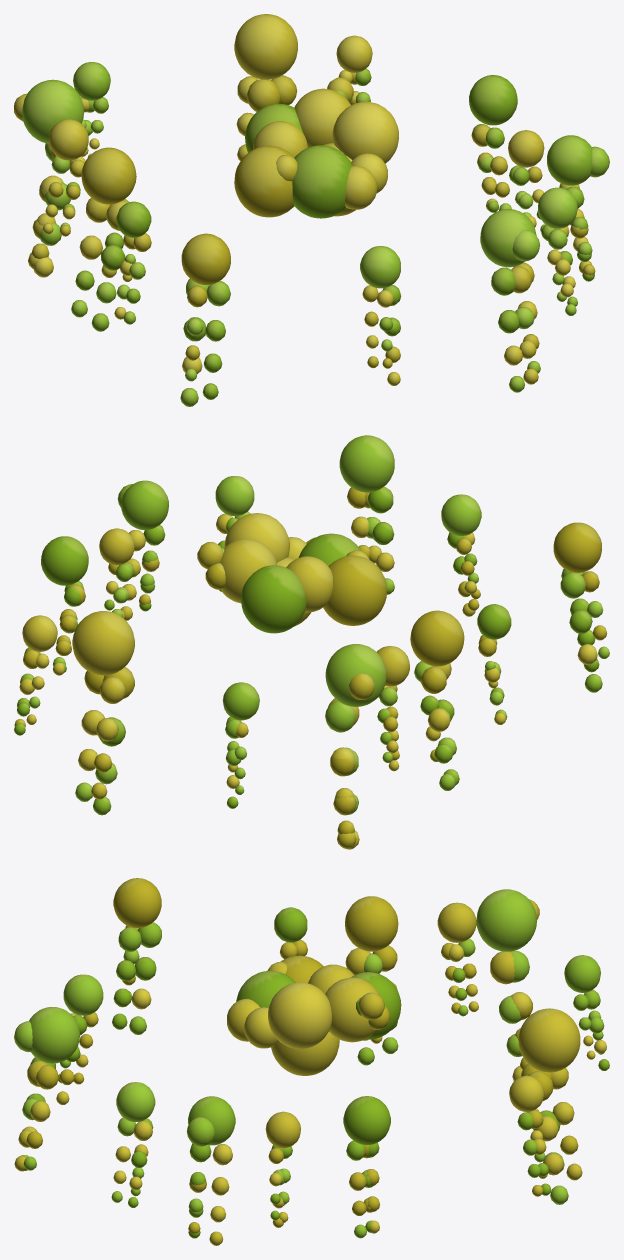
Rendered from colony-tree-23.obj.
The picture shows the model from 3 angles, top to bottom: view 1: azimuth 30°, elevation 25°; view 2: azimuth 150°, elevation 25°; view 3: azimuth 270°, elevation 25°; orthographic projection. The views are drawn at different scales.
Visible parts, largest first — view 1: tree; view 2: tree; view 3: tree.
Boxes of the visible parts, x1=… form: tree: x1=14, y1=14, x2=609, y2=406; tree: x1=14, y1=435, x2=609, y2=849; tree: x1=14, y1=878, x2=609, y2=1245.
Bounding box in the file's own units: 926 × 409 × 1068.
